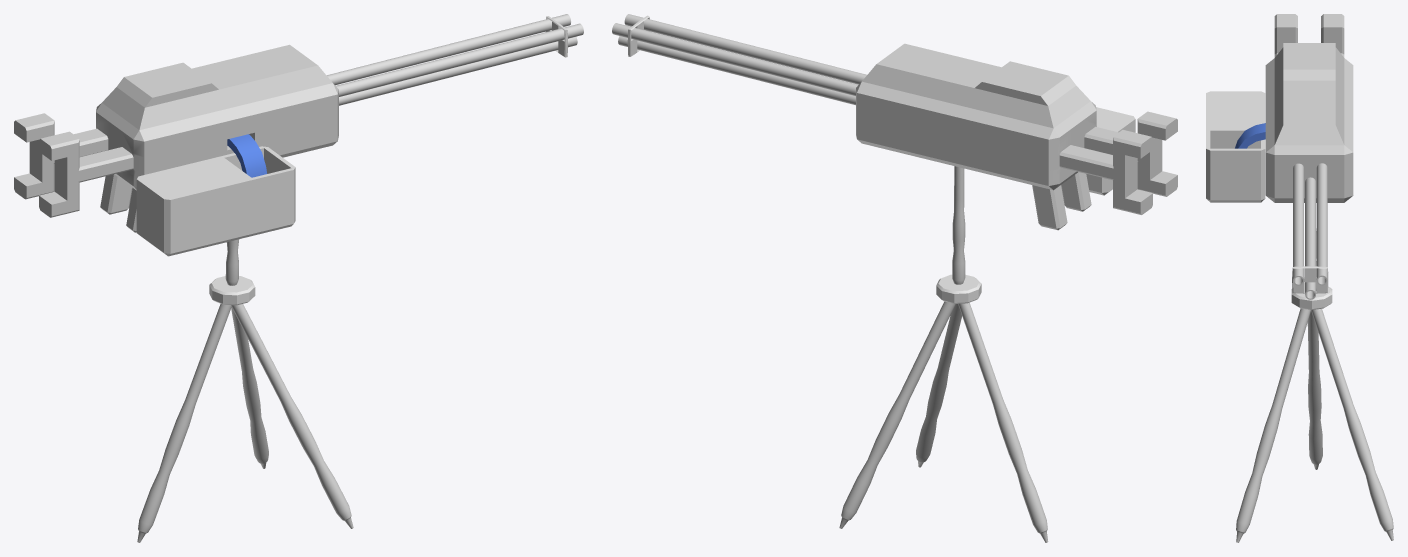
Rendered from Torreta Videojuegos.fbx.
3 views of the same model, side by side, from view 1: azimuth 30°, elevation 25°; view 2: azimuth 150°, elevation 25°; view 3: azimuth 270°, elevation 25° (orthographic). The views are drawn at different scales.
Visible parts, largest first — view 1: pCube1, pCube6, pasted__pasted__pCylinder8 (×3), pCylinder1, pCylinder4, pCylinder5, pCube7, pCylinder8; view 2: pCube1, pasted__pasted__pCylinder8 (×4), pCylinder4, pCylinder1, pCylinder5, pCube6, pCylinder8; view 3: pCube1, pasted__pasted__pCylinder8 (×3), pCube6, pCylinder4, pCylinder1, pCylinder5, pCylinder8, pCube2, pCube7.
Part boxes in pixels (box(x1,y1,x2,y2)): pCube1: box(14, 44, 338, 232); pCube6: box(136, 146, 295, 256); pasted__pasted__pCylinder8 (×3): box(137, 304, 353, 542); pCylinder1: box(336, 23, 583, 96); pCylinder4: box(327, 14, 570, 85); pCylinder5: box(339, 37, 577, 105); pCube7: box(227, 134, 267, 177); pCylinder8: box(209, 276, 255, 305); pCube1: box(856, 43, 1177, 230); pasted__pasted__pCylinder8 (×4): box(839, 166, 1048, 542); pCylinder4: box(612, 23, 857, 96); pCylinder1: box(624, 14, 866, 84); pCylinder5: box(618, 36, 855, 105); pCube6: box(1086, 107, 1135, 195); pCylinder8: box(936, 274, 981, 303); pCube1: box(1265, 14, 1353, 202); pasted__pasted__pCylinder8 (×3): box(1236, 308, 1393, 542); pCube6: box(1206, 91, 1265, 202); pCylinder4: box(1316, 163, 1327, 285); pCylinder1: box(1293, 163, 1303, 285); pCylinder5: box(1305, 177, 1315, 299); pCylinder8: box(1291, 283, 1332, 309); pCube2: box(1292, 266, 1328, 293); pCube7: box(1235, 123, 1265, 148).
Bounding box in the file's own units: 9.74 × 7.88 × 3.16.
